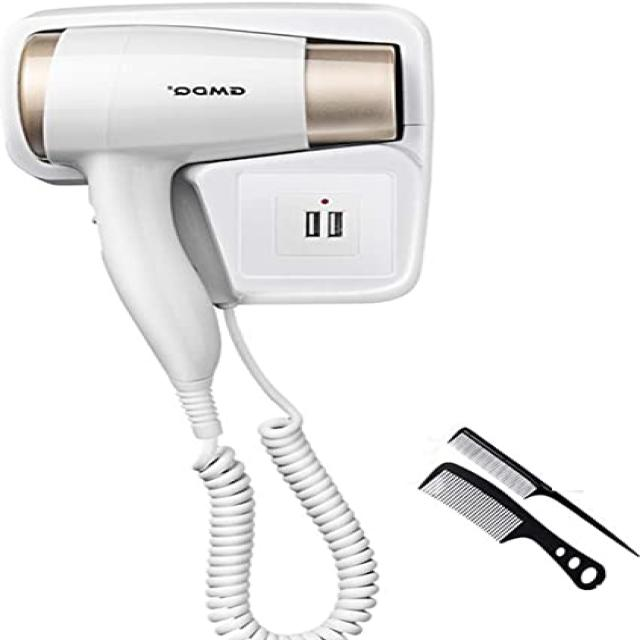dryer: (11, 2, 456, 638), (8, 6, 452, 460)
